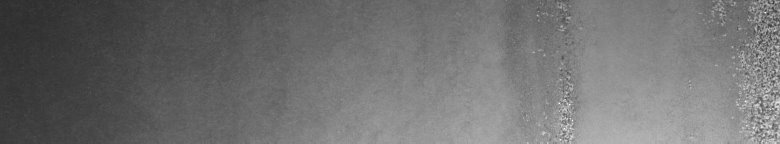hc: (700, 4, 776, 136)
